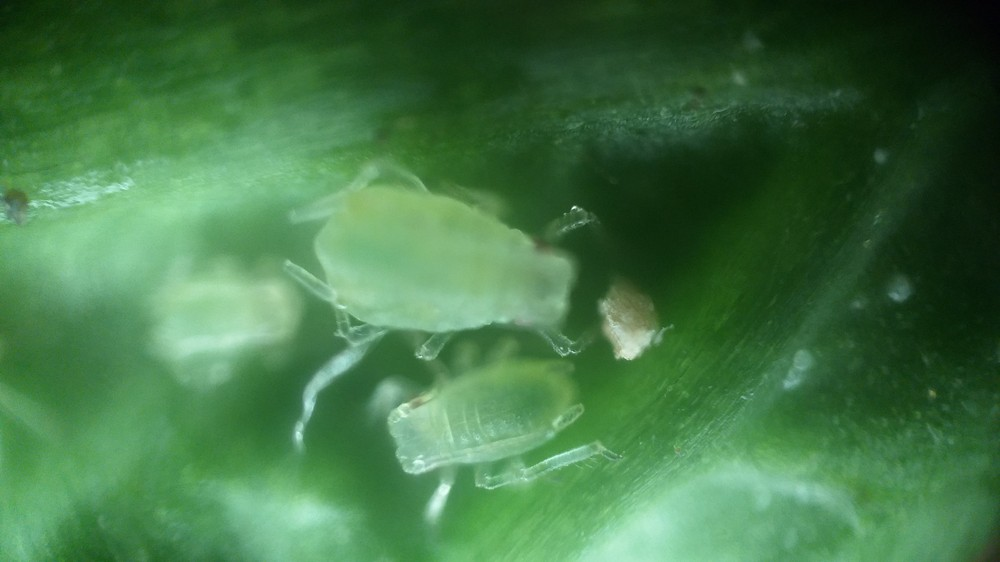Pulgon: (279, 158, 642, 366), (366, 352, 644, 514)
